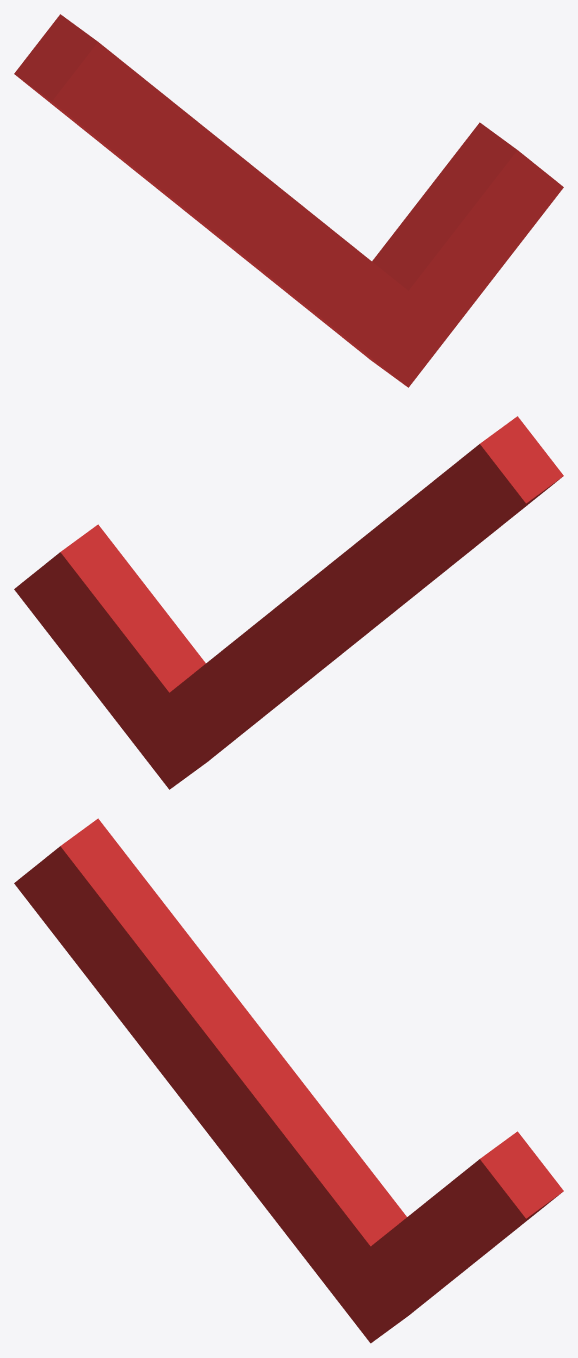
Rendered from lbl.glb.
3 views of the same model, one above another, from view 1: azimuth 30°, elevation 25°; view 2: azimuth 150°, elevation 25°; view 3: azimuth 330°, elevation 25° (orthographic).
Parts seen in each view (by area): view 1: Cube, Cube.003; view 2: Cube, Cube.003; view 3: Cube, Cube.003.
Part boxes in pixels (<box>): Cube: <box>14,14,454,387</box>; Cube.003: <box>372,122,563,327</box>; Cube: <box>123,416,563,789</box>; Cube.003: <box>14,524,205,729</box>; Cube: <box>14,818,452,1343</box>; Cube.003: <box>371,1131,563,1305</box>.
Size of the model in its own units: 5.68 by 4.47 by 0.7271.
